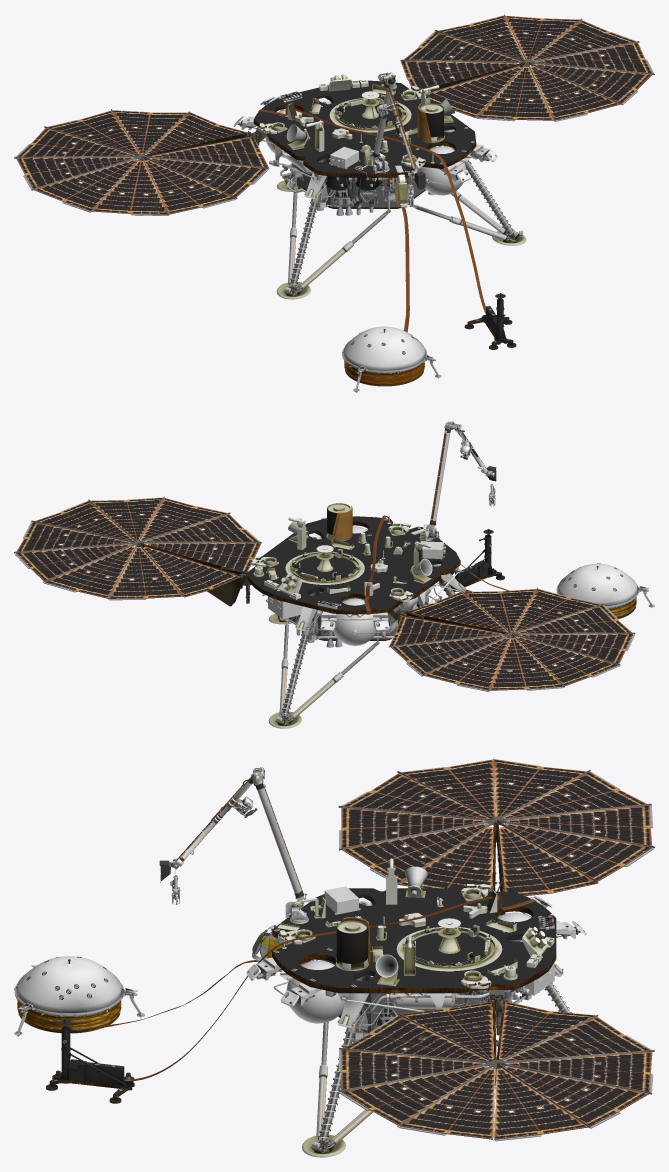
Rendered from insight.gltf.
3 views of the same model, one above another, from view 1: azimuth 30°, elevation 25°; view 2: azimuth 150°, elevation 25°; view 3: azimuth 270°, elevation 25° (orthographic). The views are drawn at different scales.
Visible parts, largest first — view 1: insight_deployed; view 2: insight_deployed; view 3: insight_deployed.
Part boxes in pixels (x1,y1,x2,y2): insight_deployed: (14, 14, 654, 392); insight_deployed: (14, 421, 654, 728); insight_deployed: (14, 757, 654, 1157).
Size of the model in its own units: 6.14 by 2.19 by 4.35.
12 materials, 10 textured.
